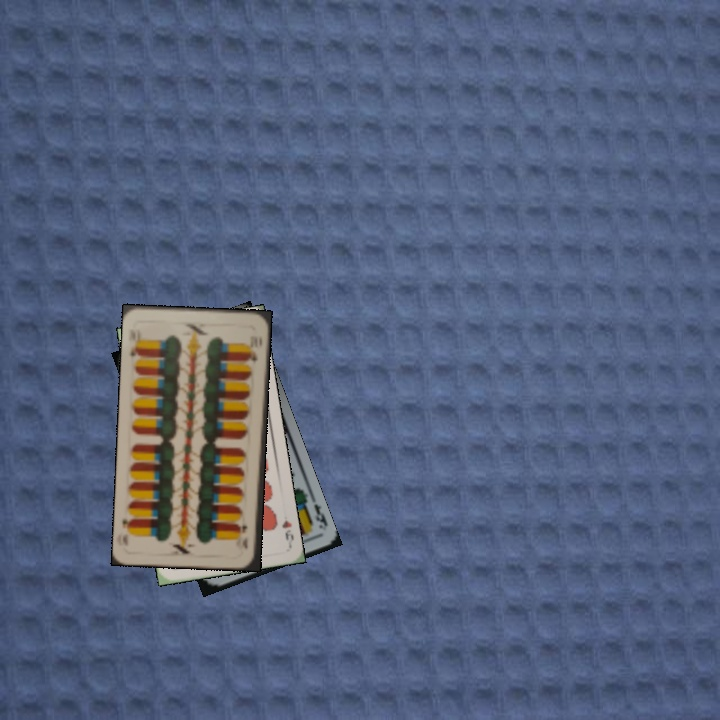E10: (126, 325, 144, 359), (238, 521, 250, 552)
EK: (310, 500, 330, 529)
H9: (278, 516, 296, 548)
